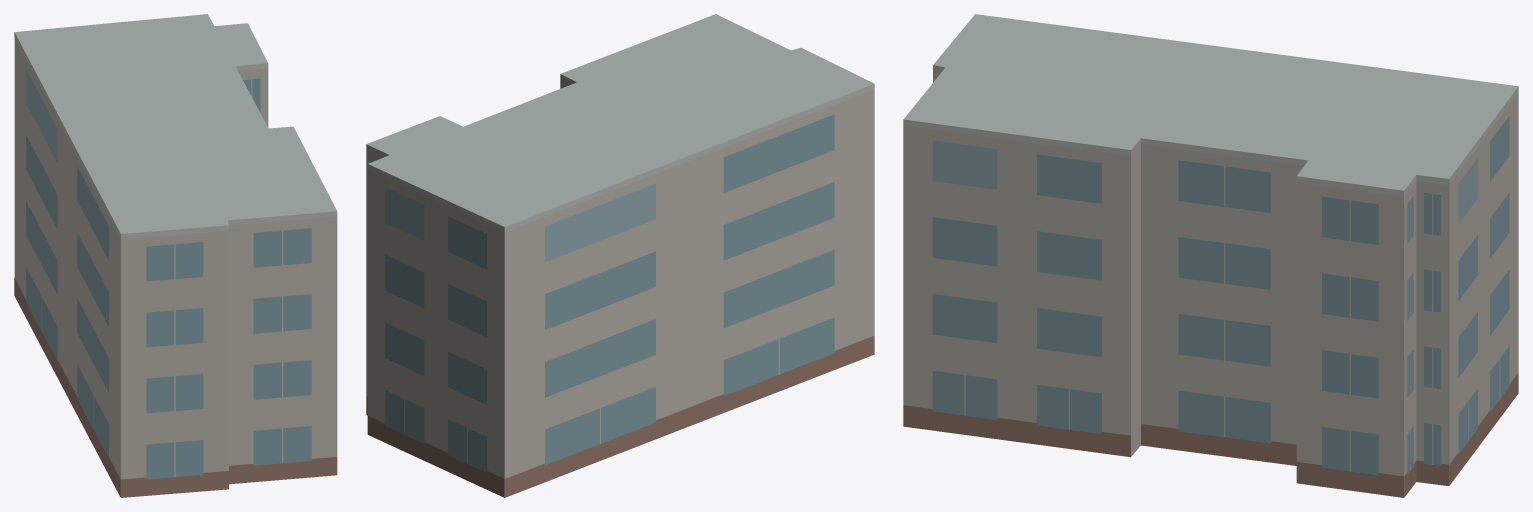
The model's file is survey-upis-32676880.glb.
3 renders of one model, left to right at view 1: azimuth 30°, elevation 25°; view 2: azimuth 150°, elevation 25°; view 3: azimuth 270°, elevation 25°, orthographic. The views are drawn at different scales.
Visible parts, largest first — view 1: survey-upis-32676880.tmp; view 2: survey-upis-32676880.tmp; view 3: survey-upis-32676880.tmp.
Part boxes in pixels (left/top/right/bottom): survey-upis-32676880.tmp: left=14, top=14, right=337, bottom=497; survey-upis-32676880.tmp: left=366, top=14, right=874, bottom=497; survey-upis-32676880.tmp: left=903, top=14, right=1518, bottom=497.
Size of the model in its own units: 15.07 by 12.2 by 22.16.
